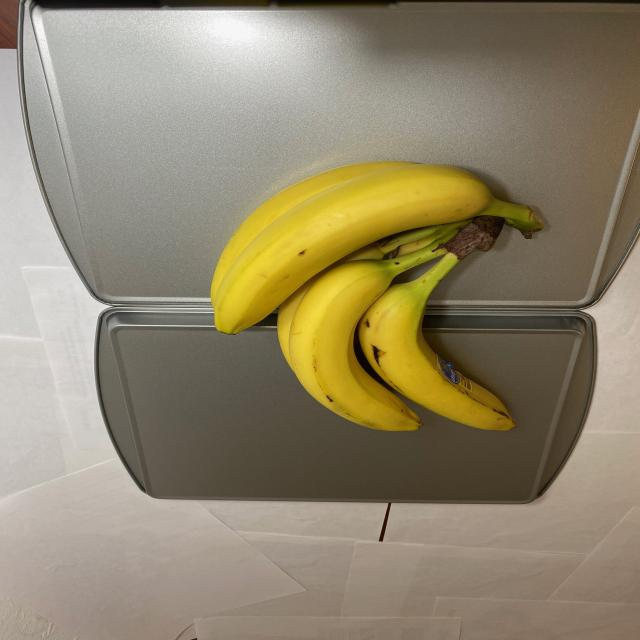banana: (206, 163, 530, 434)
